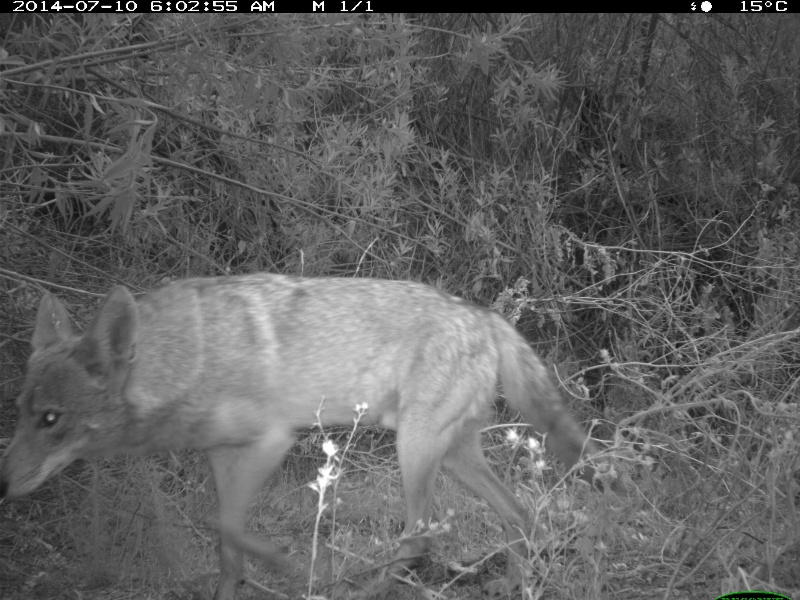coyote: (1, 274, 588, 591)
